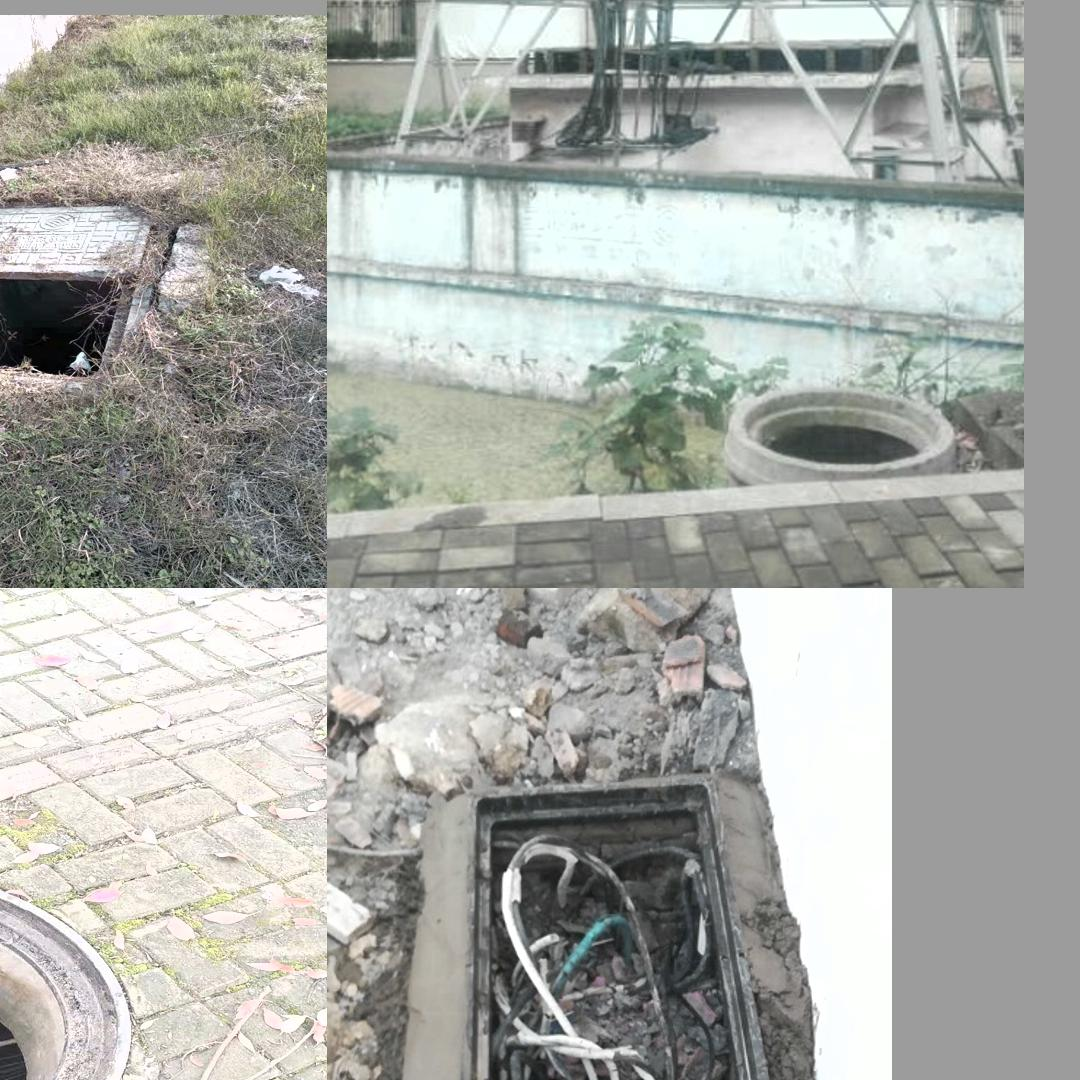lose: (456, 774, 795, 1080), (0, 181, 207, 412), (0, 863, 131, 1080), (714, 367, 966, 467)
